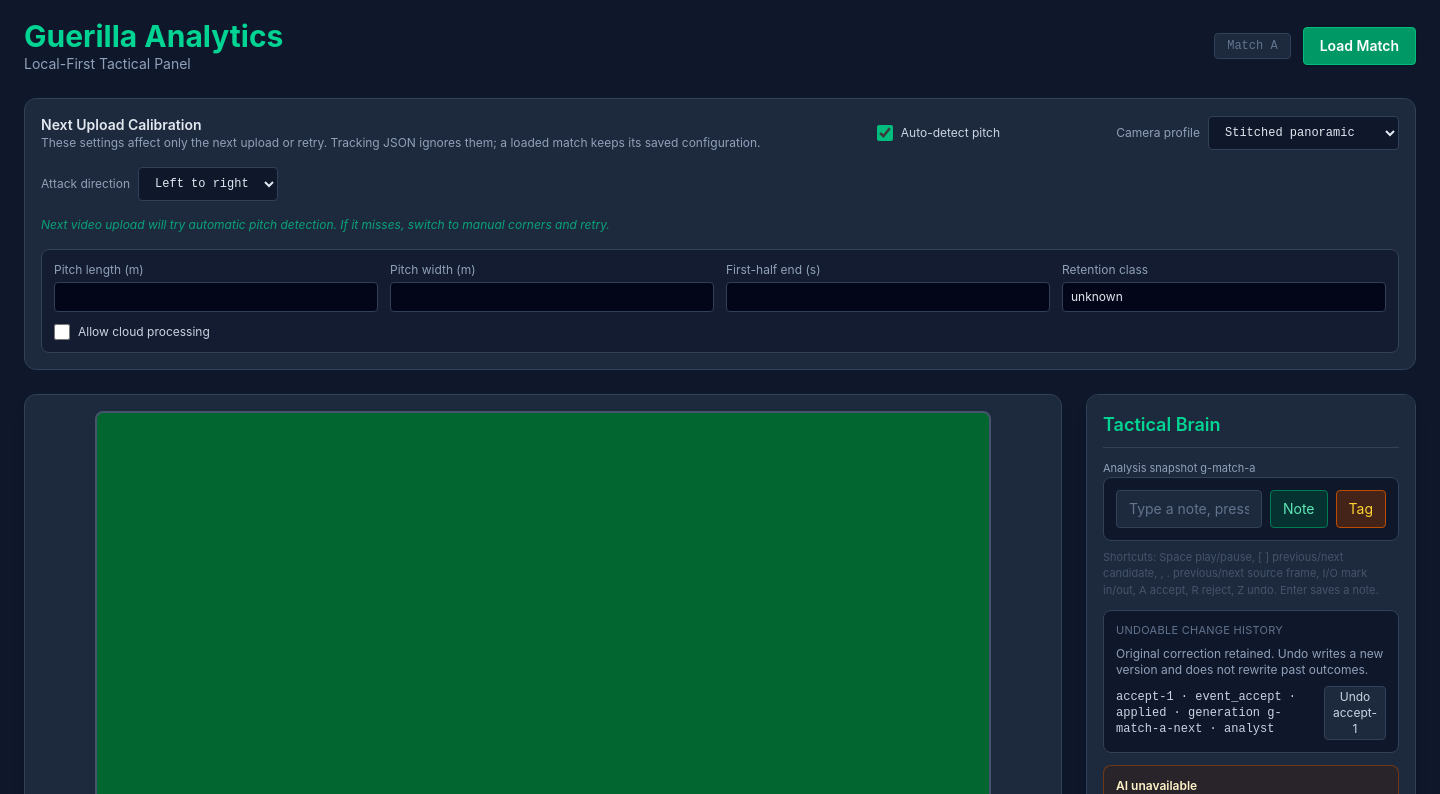
App match workspace loading › loads stored undoable correction history without requiring an in-session edit
Expected: the text "Match A" is shown, [1214, 33, 1291, 59]
Expected: the list item named "Undo accept-1" shows "analyst", [1202, 722, 1274, 736]
What coordinates should you click on to do the following:
click the button "Undo accept-1"
I would click on:
 (1355, 713)
Its box is [1324, 686, 1386, 740].
(page scrolled)
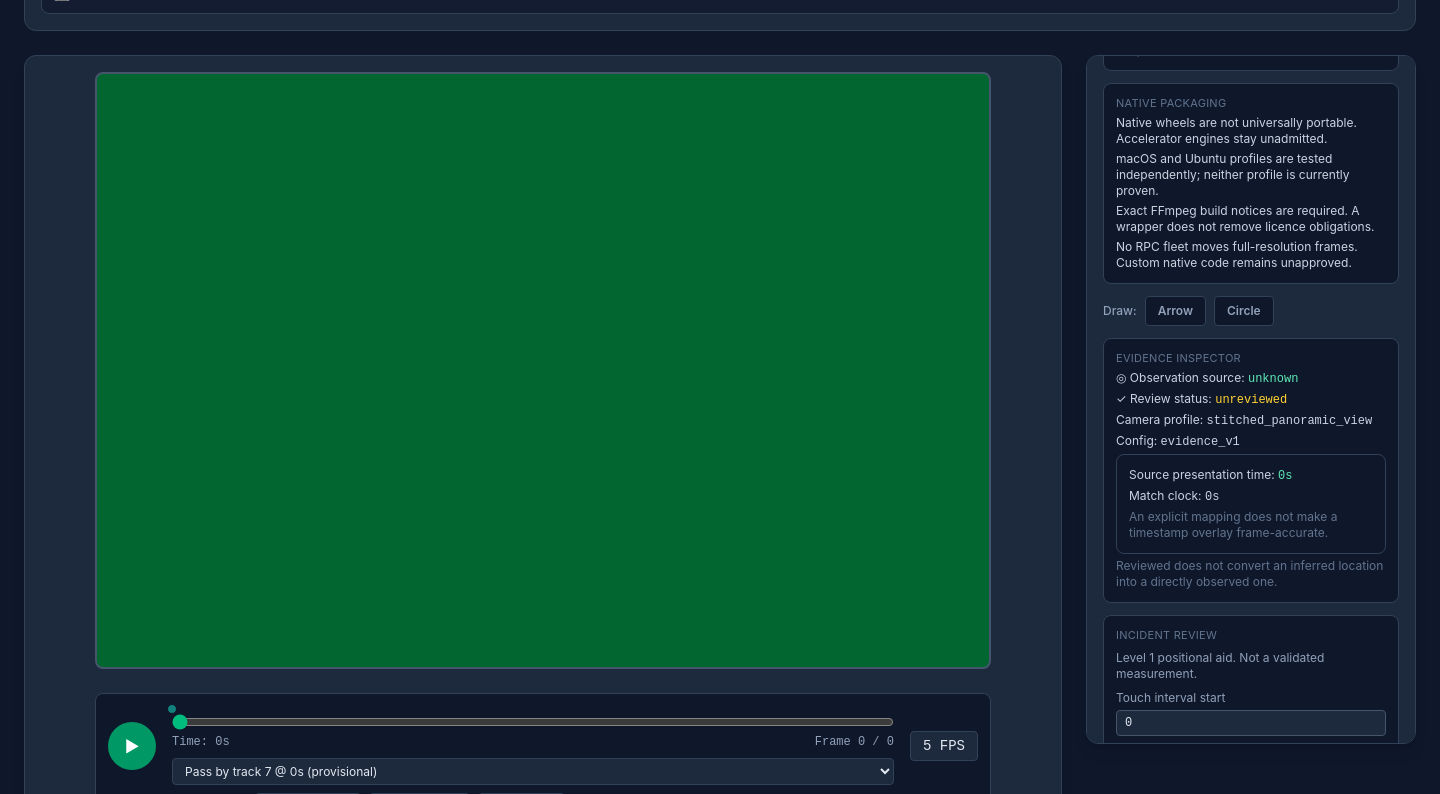
Expected: the text "unreviewed" is shown, [1215, 393, 1287, 407]
